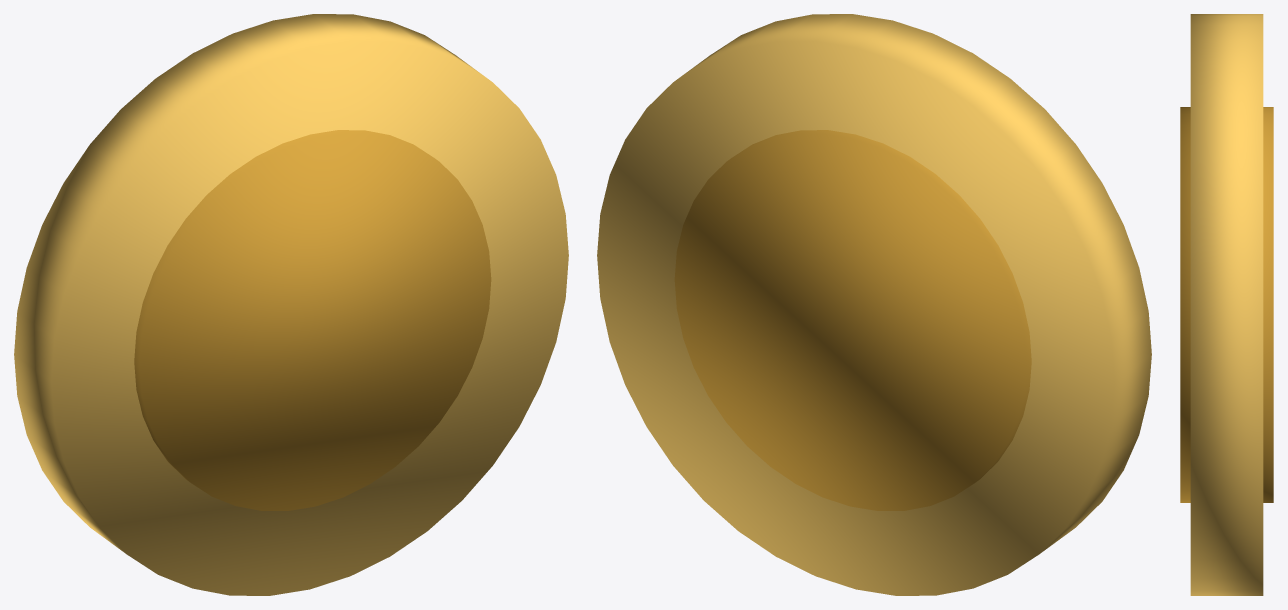
Rendered from coin.glb.
3 views of the same model, side by side, from view 1: azimuth 30°, elevation 25°; view 2: azimuth 150°, elevation 25°; view 3: azimuth 270°, elevation 25° (orthographic). The views are drawn at different scales.
Visible parts, largest first — view 1: coin_Body; view 2: coin_Body; view 3: coin_Body.
Boxes of the visible parts, <box> form: coin_Body: <box>14,14,568,595</box>; coin_Body: <box>597,14,1151,595</box>; coin_Body: <box>1180,14,1273,595</box>.
Size of the model in its own units: 2 by 2 by 0.32.
